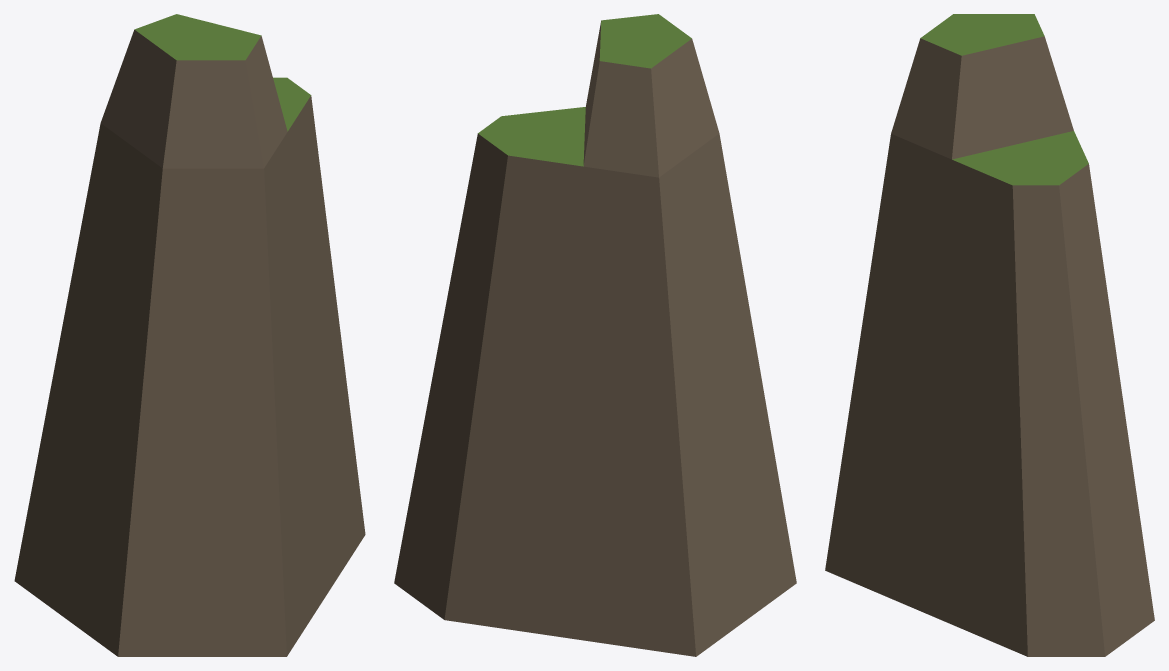
The model's file is kenney_rock_tall_c.glb.
3 views of the same model, side by side, from view 1: azimuth 30°, elevation 25°; view 2: azimuth 150°, elevation 25°; view 3: azimuth 270°, elevation 25° (orthographic). The views are drawn at different scales.
Visible parts, largest first — view 1: stone, plaster; view 2: stone, plaster; view 3: stone, plaster.
Part boxes in pixels (x1,y1,x2,y2): stone: (14, 29, 365, 656); plaster: (134, 14, 310, 131); stone: (394, 21, 796, 656); plaster: (478, 14, 691, 166); stone: (825, 36, 1154, 656); plaster: (920, 14, 1088, 185).
Size of the model in its own units: 0.4562 by 0.7829 by 0.4365.
